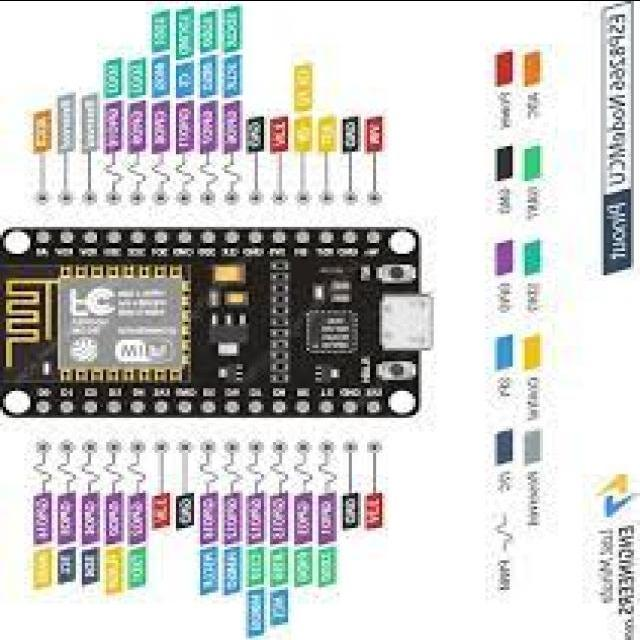Esp8266: (1, 229, 433, 417)
